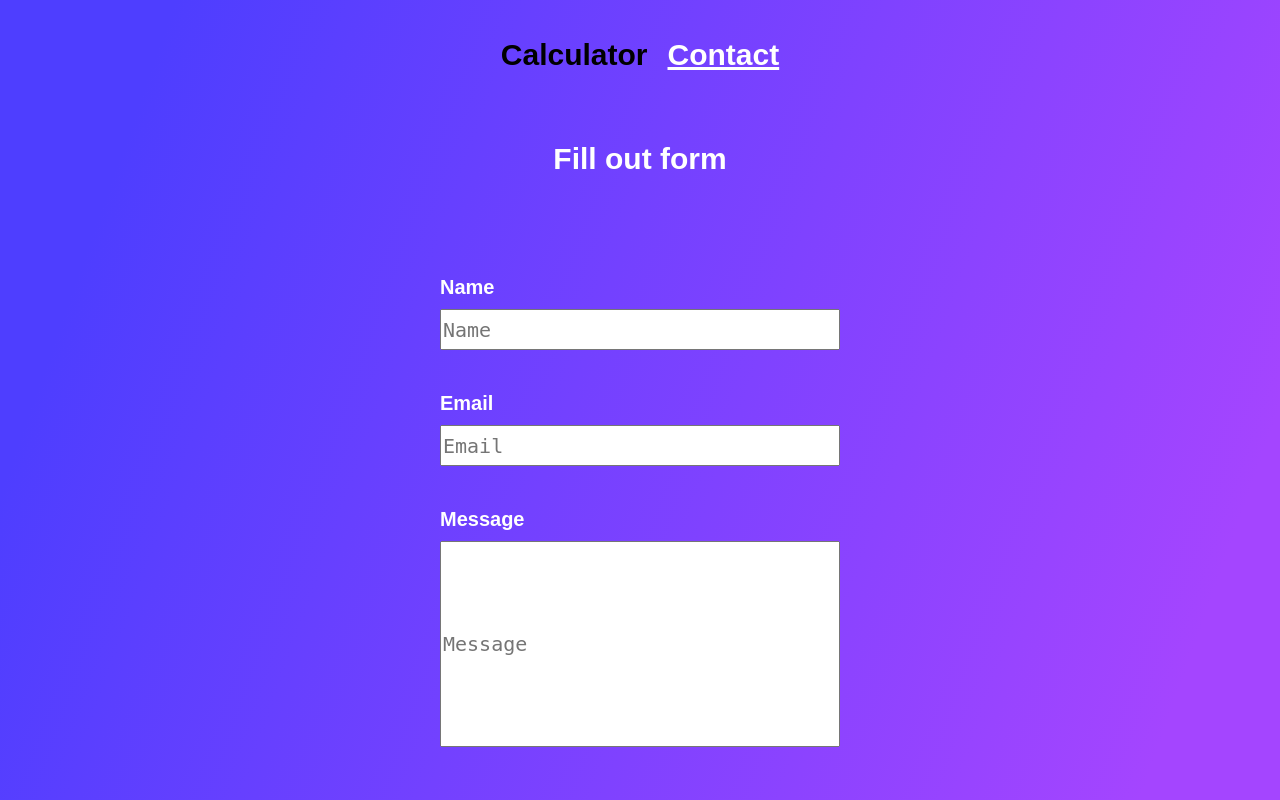
Test case: Contact Form › Check that invalid email is handled
Type "Random Name" into the text box with id "nameInput" at coordinates (640, 330), box [440,309,840,350]
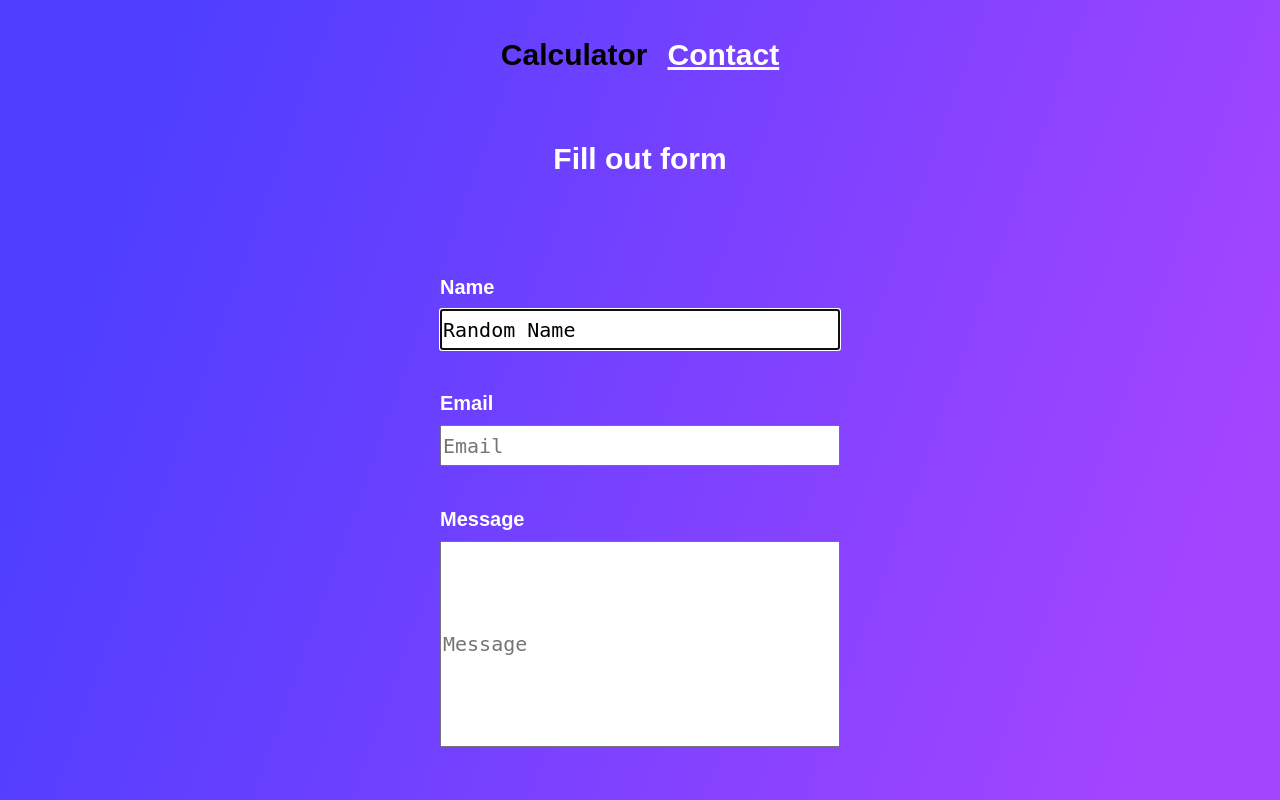
Type "randomemail.com" into the text box with id "emailInput" at coordinates (640, 446), box [440,425,840,466]
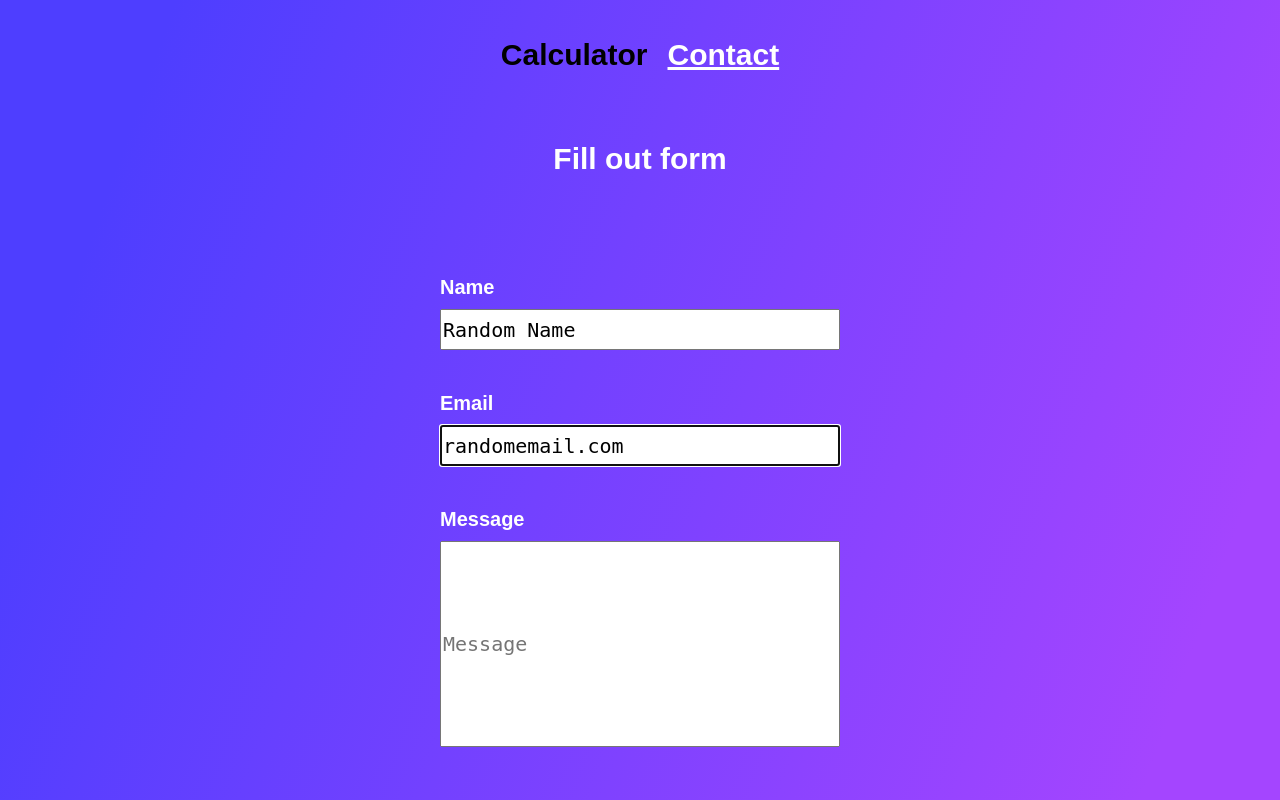
Type "Random Message" into the text box with id "messageInput" at coordinates (640, 644), box [440,541,840,747]
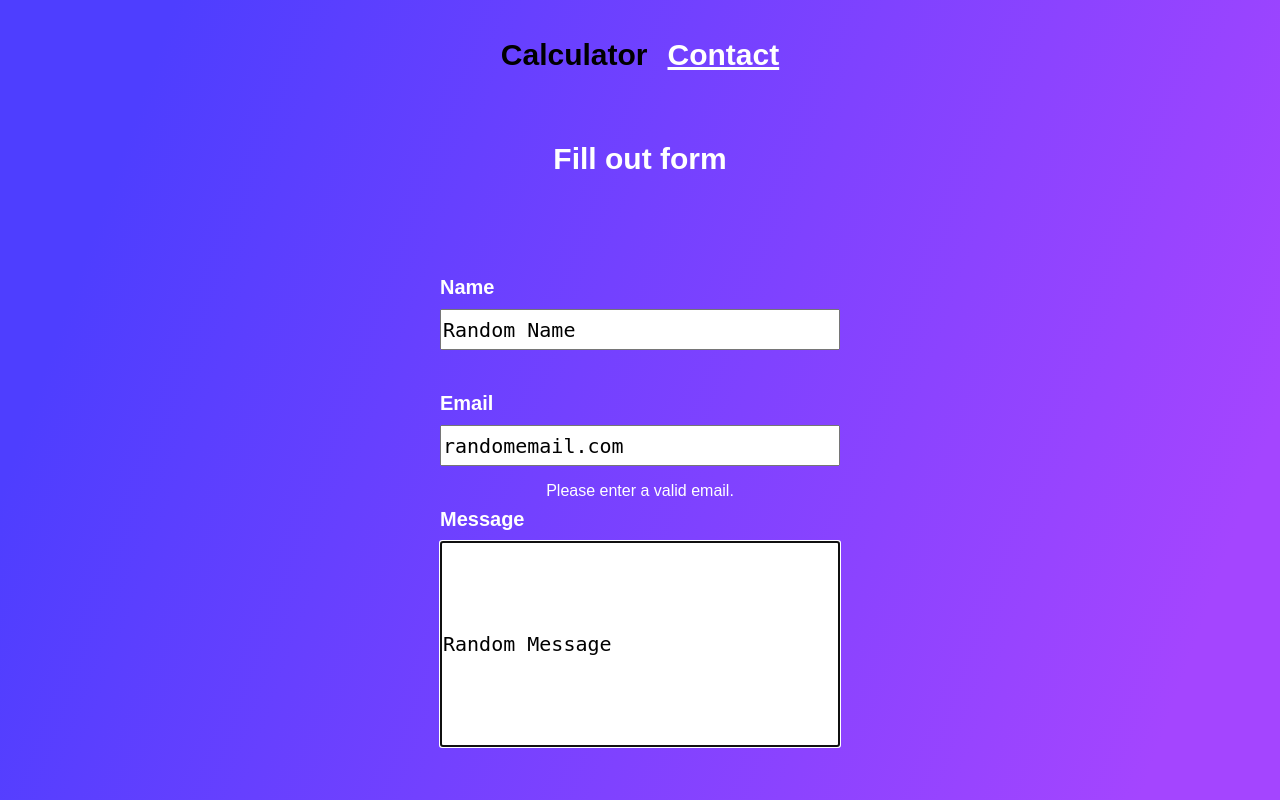
Check: the text with id "email-update" reads "Please enter a valid email.", box [440,482,840,492]
